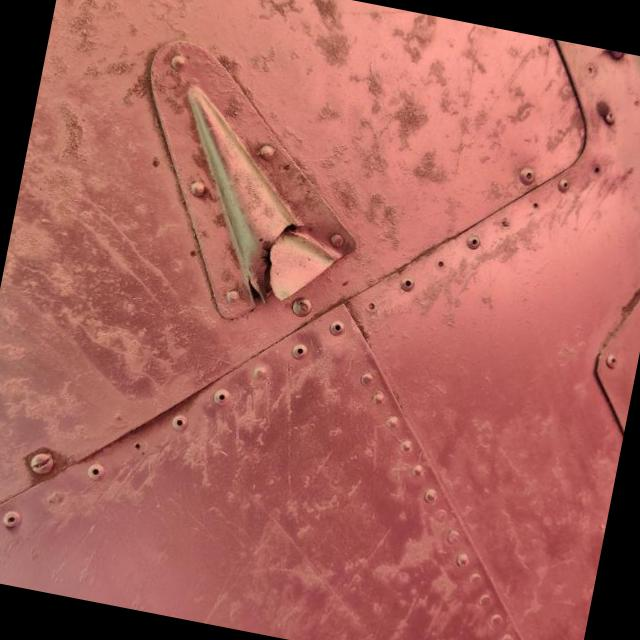Crack: (240, 229, 342, 301)
